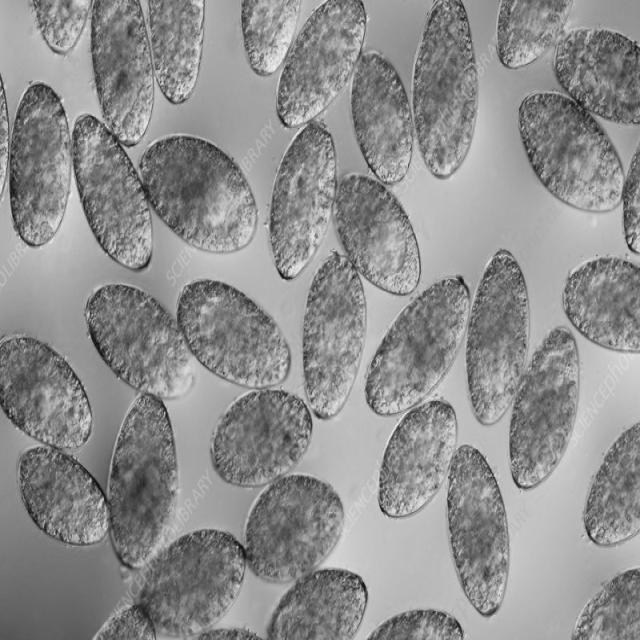Fasciola Hepatica: (138, 128, 260, 268), (105, 369, 182, 575), (178, 278, 296, 410), (71, 107, 156, 289), (293, 247, 376, 430), (0, 313, 103, 460), (84, 274, 204, 397), (263, 109, 338, 288), (13, 431, 113, 546), (5, 71, 74, 236), (208, 390, 312, 492)
